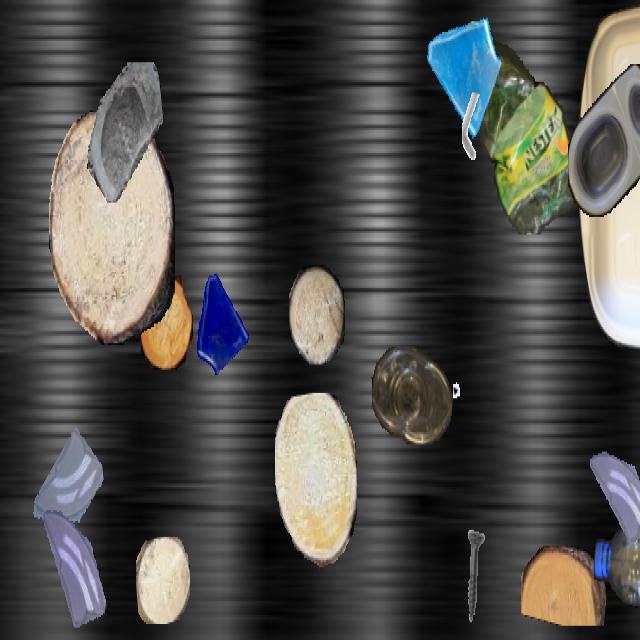glass: (85, 62, 163, 201), (423, 2, 501, 140), (36, 507, 110, 638), (31, 423, 103, 551), (191, 269, 251, 375), (590, 441, 640, 555)
metal: (446, 528, 502, 628), (452, 92, 492, 164), (453, 366, 491, 434)
plastic: (448, 21, 578, 235), (578, 2, 640, 350), (568, 64, 640, 217), (372, 347, 452, 442), (594, 519, 640, 615)
wood: (49, 109, 175, 343), (275, 393, 357, 567), (521, 546, 607, 624), (289, 265, 345, 364), (140, 276, 192, 368), (136, 537, 190, 622)
